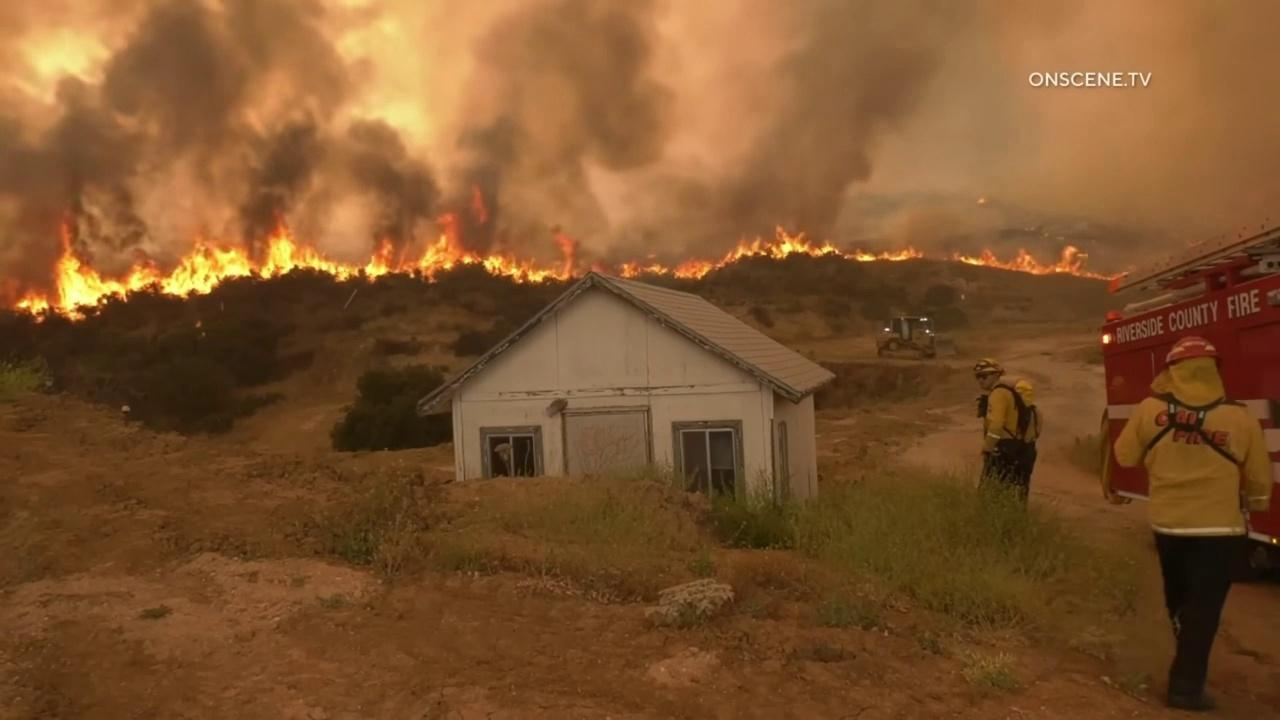fire: (0, 181, 589, 325), (618, 220, 926, 281), (952, 244, 1112, 280), (590, 259, 608, 273), (195, 319, 202, 329), (975, 197, 985, 204)
smoke: (0, 0, 1280, 274)
